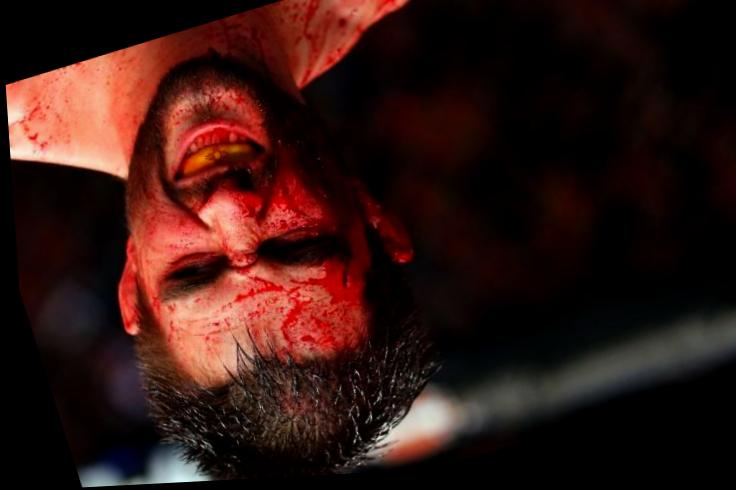Fire: (173, 58, 398, 362), (117, 0, 412, 109), (129, 254, 248, 387), (5, 83, 69, 162), (48, 59, 92, 85)
